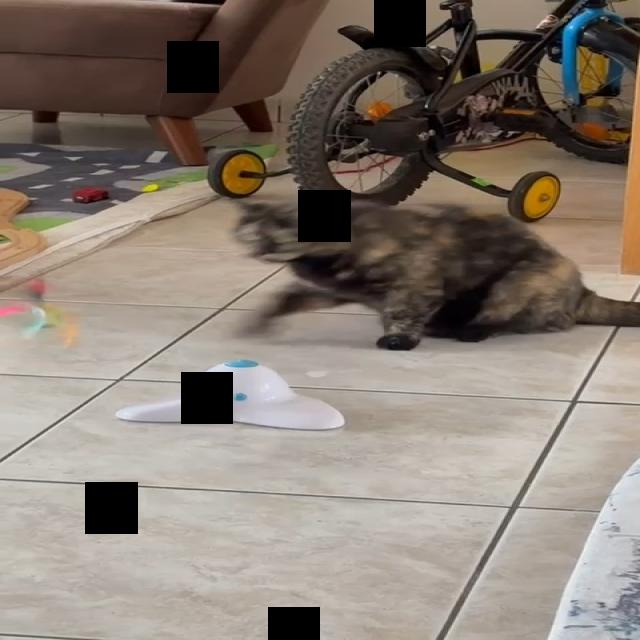authorized: (229, 198, 639, 351)
